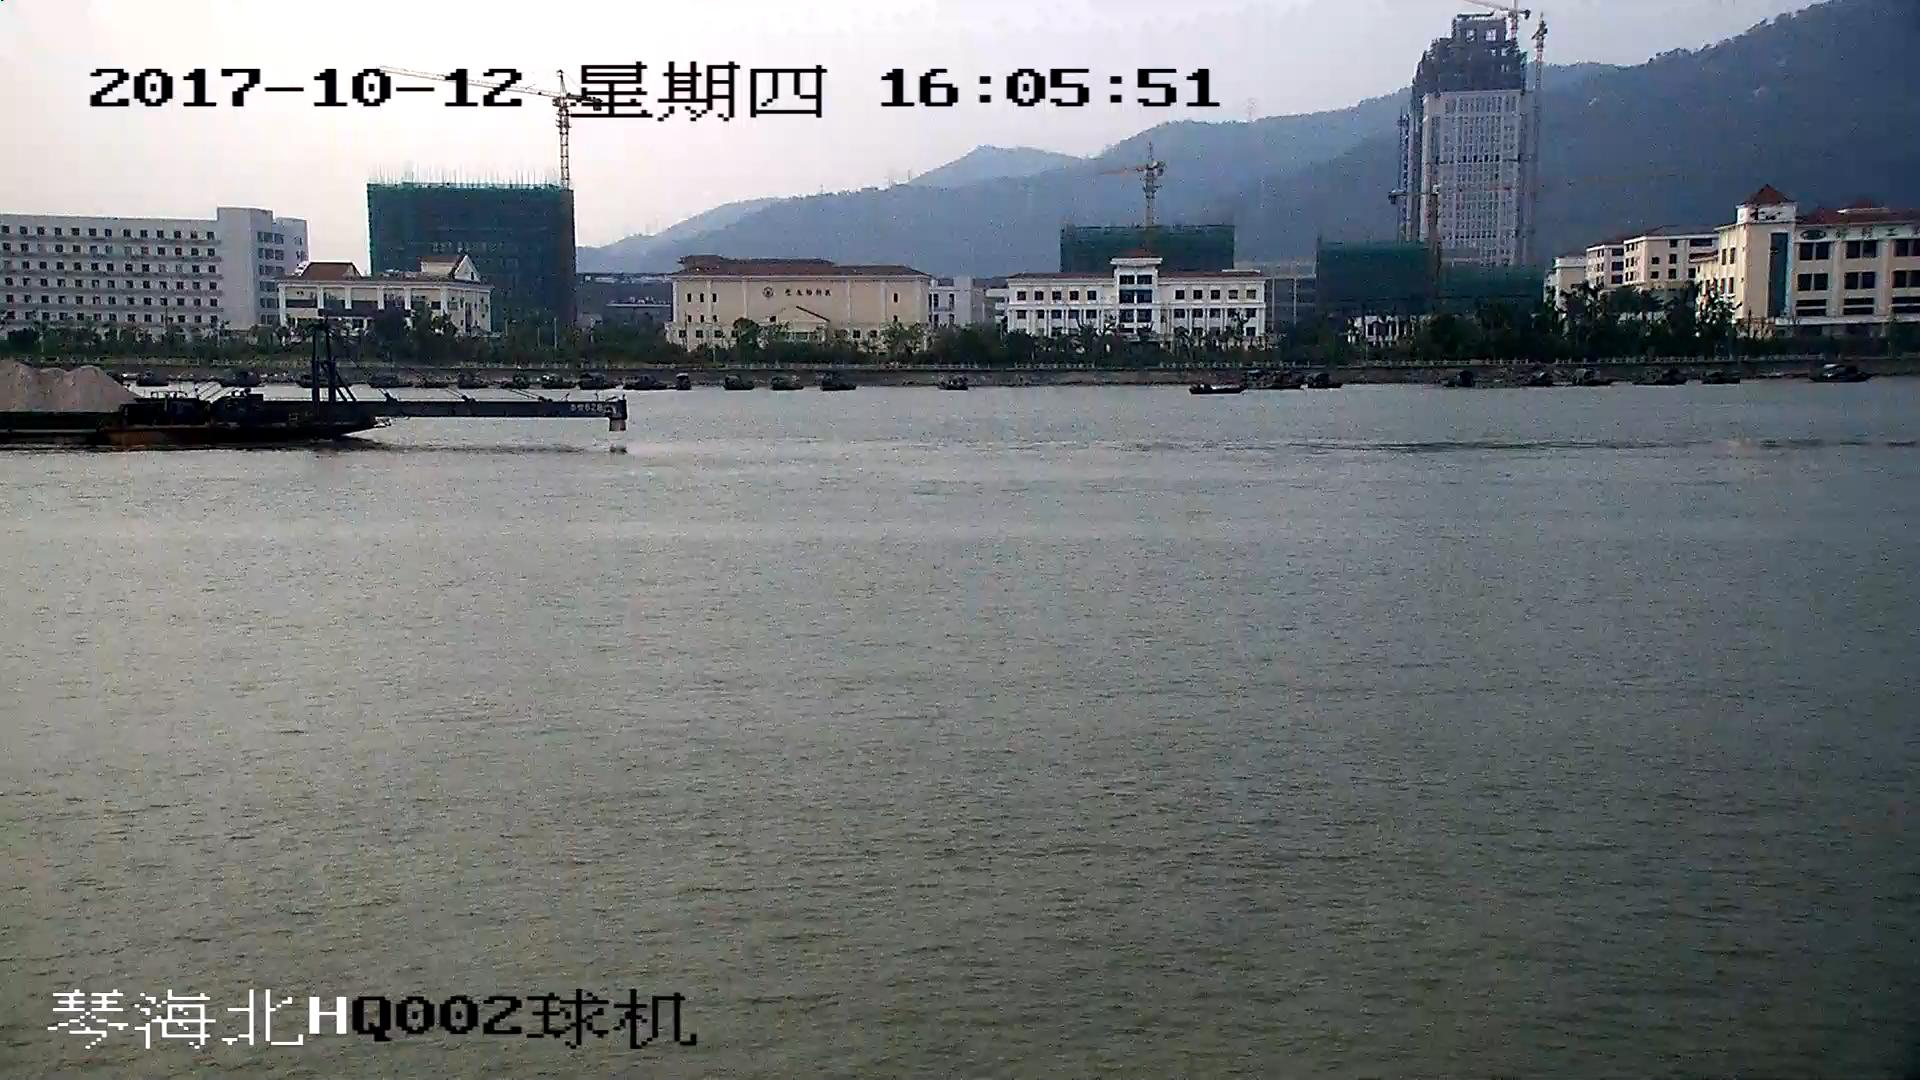ore carrier: (1, 320, 622, 450)
